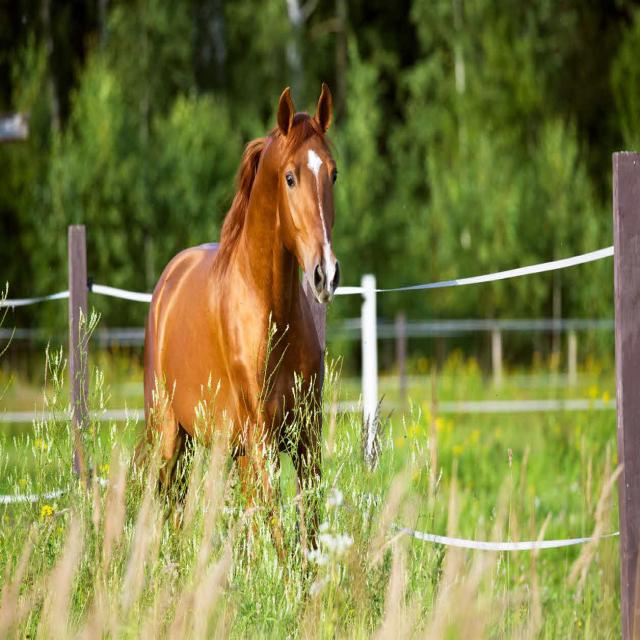Horse: (138, 80, 342, 543)
